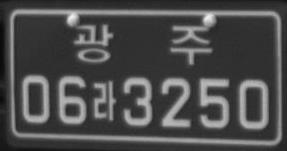0: (237, 78, 270, 131), (21, 73, 50, 124)
2: (159, 76, 192, 128)
3: (122, 76, 154, 126)
5: (198, 76, 231, 130)
6: (57, 74, 87, 125)
광주_D: (73, 23, 212, 66)
라: (93, 79, 116, 121)
